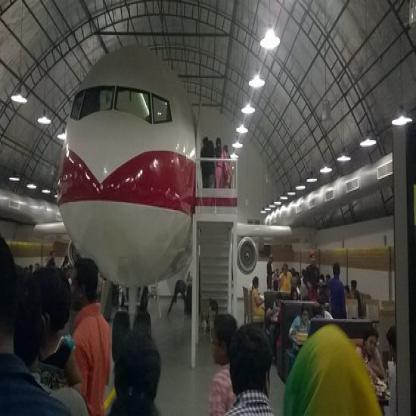CIV_Plane: (53, 41, 320, 306)
